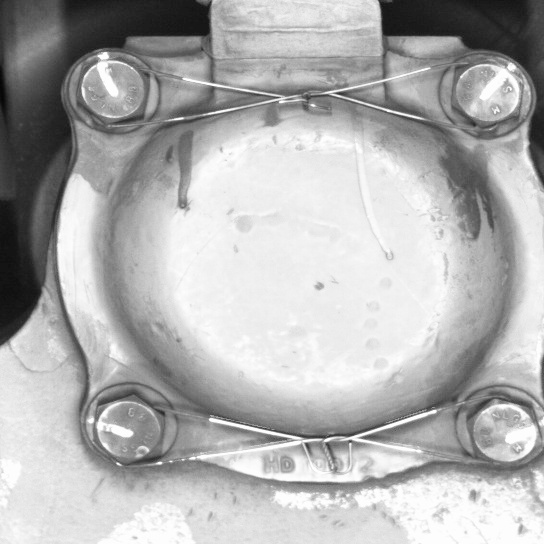IronWire: (66, 40, 538, 140), (79, 378, 541, 468)
Screw: (79, 380, 177, 477), (441, 49, 537, 141), (66, 42, 156, 138), (450, 381, 542, 468)
